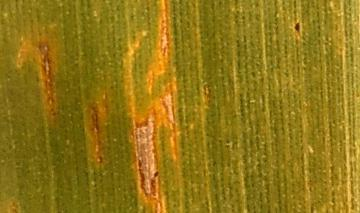tarspot: (294, 20, 301, 35), (152, 169, 159, 179)
